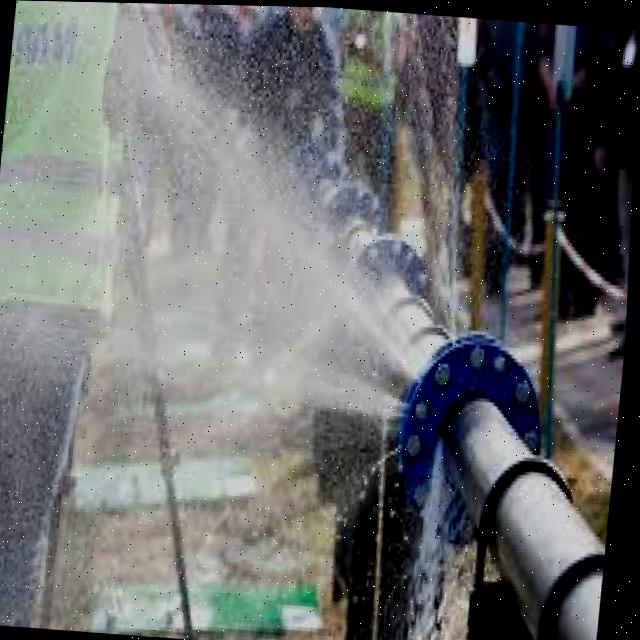corrosion: (225, 224, 514, 535)
